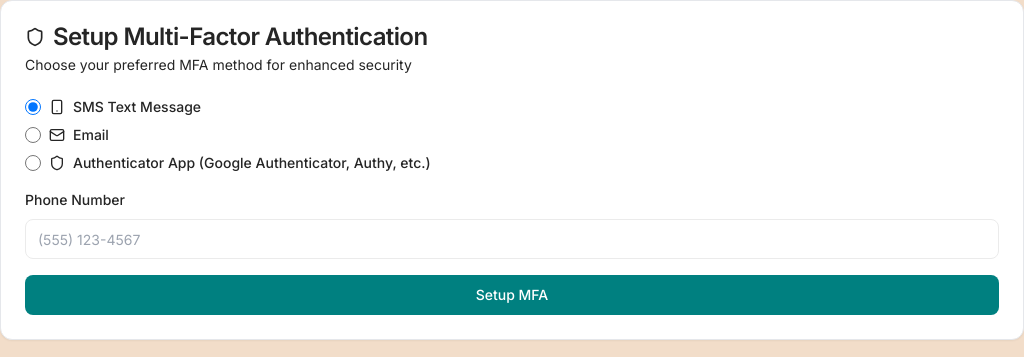
Scenario: MfaSetup › Method Selection › should show email input when Email is selected
Click the radio button labelled "Email" at (33, 135), box [25, 127, 41, 143]
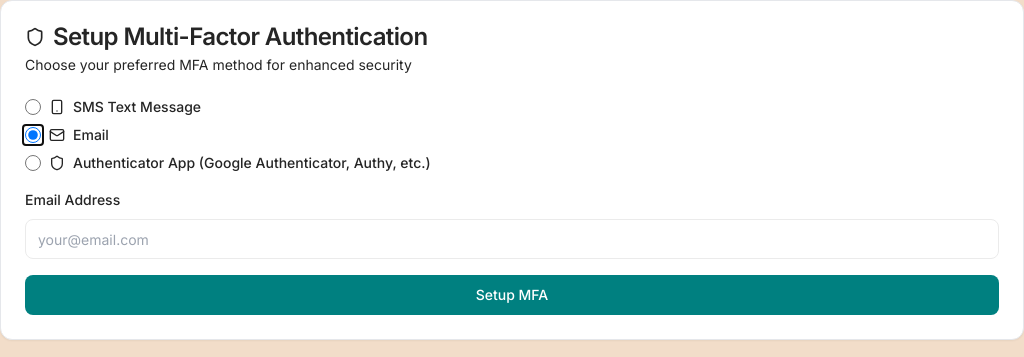
Expected: the field with placeholder "your@email.com" is shown, [25, 219, 999, 259]
